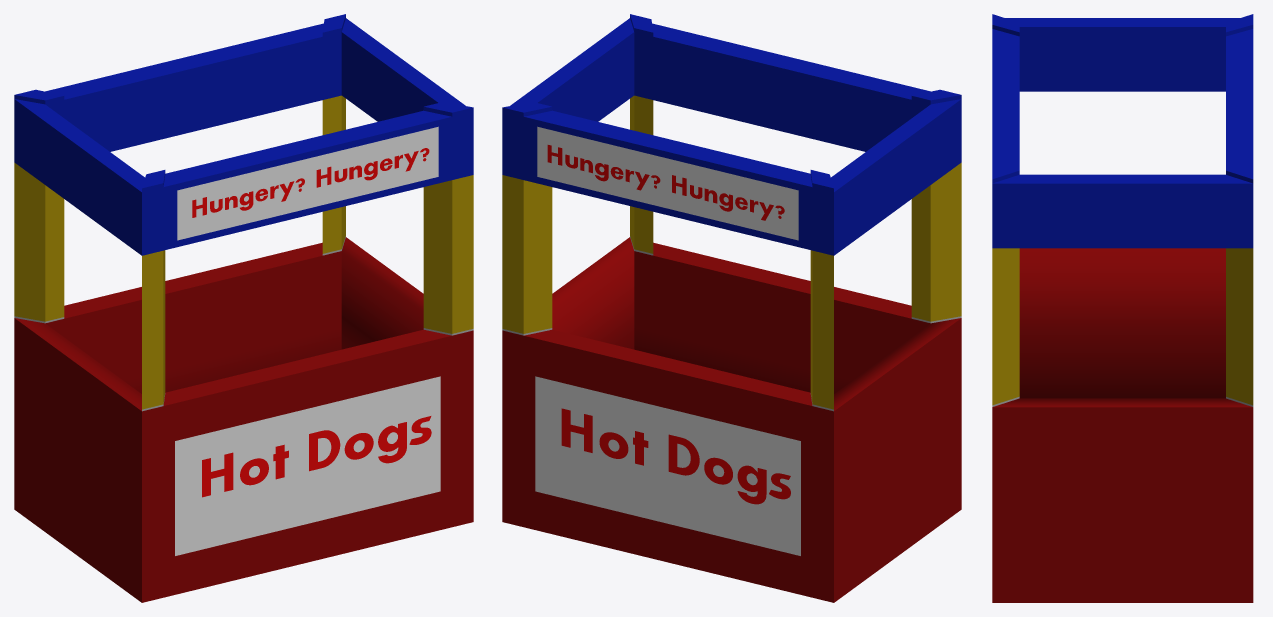
File: hotdogstand.fbx
The picture shows the model from 3 angles, left to right: view 1: azimuth 30°, elevation 25°; view 2: azimuth 150°, elevation 25°; view 3: azimuth 270°, elevation 25°; orthographic projection. The views are drawn at different scales.
Parts seen in each view (by area): view 1: pCube1, Trim_Char_H_1_1, Trim_Char_g_1_1, Trim_Char_D_1_1; view 2: pCube1, Trim_Char_g_1_2, Trim_Char_D_1_2, Trim_Char_H_1_2; view 3: pCube1.
Boxes of the visible parts, left/top/right/bottom form: pCube1: left=14, top=14, right=473, bottom=602; Trim_Char_H_1_1: left=202, top=452, right=233, bottom=497; Trim_Char_g_1_1: left=378, top=422, right=406, bottom=463; Trim_Char_D_1_1: left=309, top=430, right=340, bottom=471; pCube1: left=502, top=14, right=961, bottom=602; Trim_Char_g_1_2: left=737, top=465, right=766, bottom=504; Trim_Char_D_1_2: left=668, top=434, right=699, bottom=475; Trim_Char_H_1_2: left=561, top=408, right=592, bottom=452; pCube1: left=992, top=14, right=1253, bottom=602.
Bounding box in the file's own units: 6 × 7.17 × 4.11.
